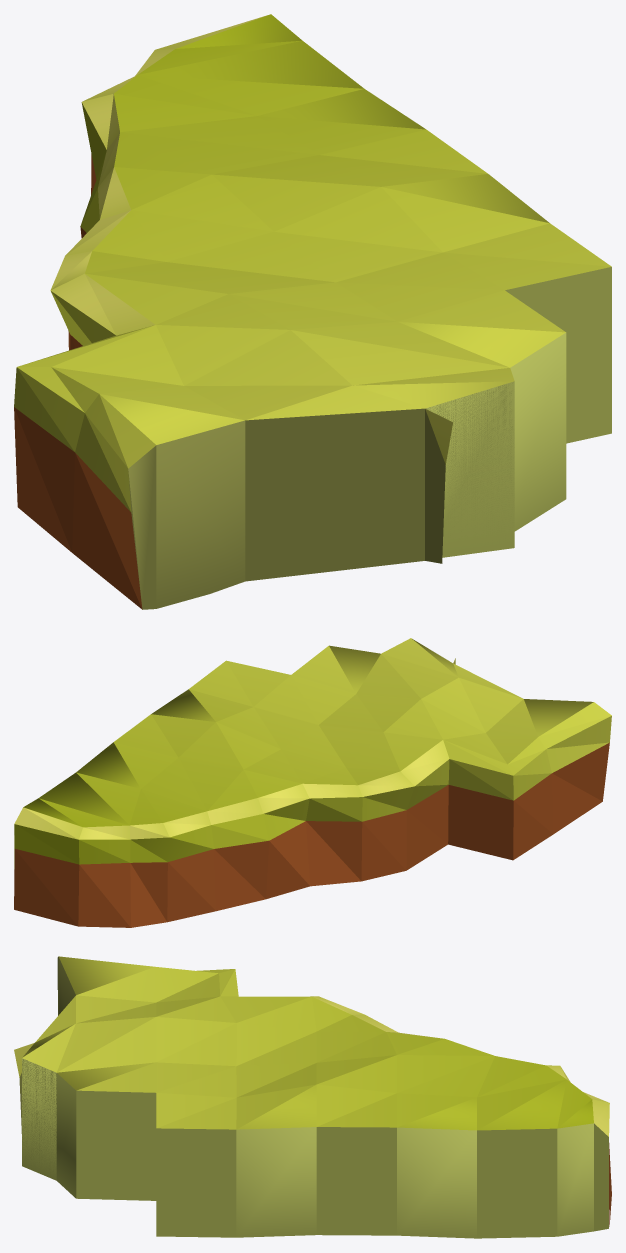
The model's file is europe_France.glb.
The picture shows the model from 3 angles, top to bottom: view 1: azimuth 30°, elevation 25°; view 2: azimuth 150°, elevation 25°; view 3: azimuth 270°, elevation 25°; orthographic projection. The views are drawn at different scales.
Visible parts, largest first — view 1: europe_France; view 2: europe_France; view 3: europe_France.
Part boxes in pixels (x1=…): europe_France: x1=14, y1=14, x2=611, y2=609; europe_France: x1=14, y1=638, x2=611, y2=927; europe_France: x1=14, y1=956, x2=611, y2=1238.
Bounding box in the file's own units: 1.45 × 0.4603 × 2.08.
Materials: 3 (1 with a texture image).
